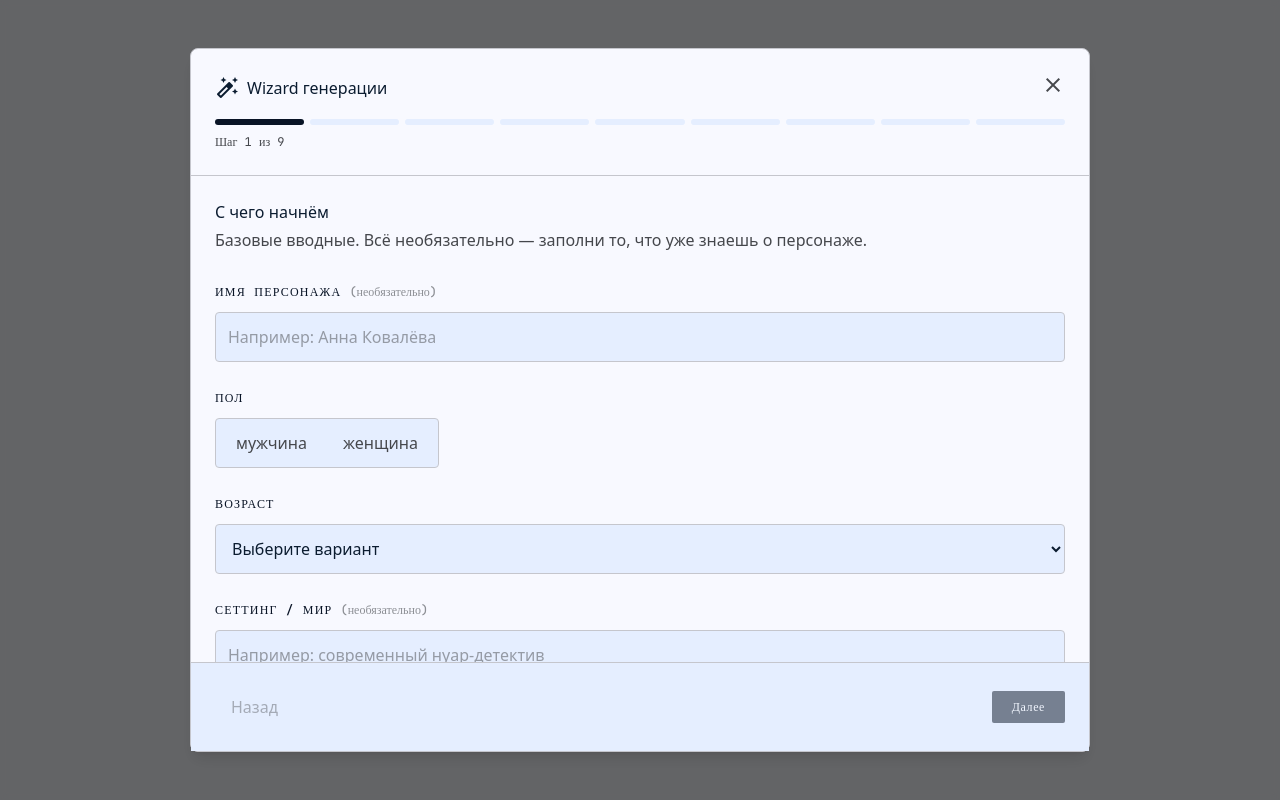
WizardModal › renders the intro step first and disables Next until required answers given
This screenshot has width=1280, height=800.
Check: the heading "С чего начнём" is shown, box [215, 201, 329, 223]
Check: the button "Далее" is disabled, box [992, 691, 1065, 723]
Click the button "мужчина". click: (272, 443)
box: [220, 423, 323, 463]
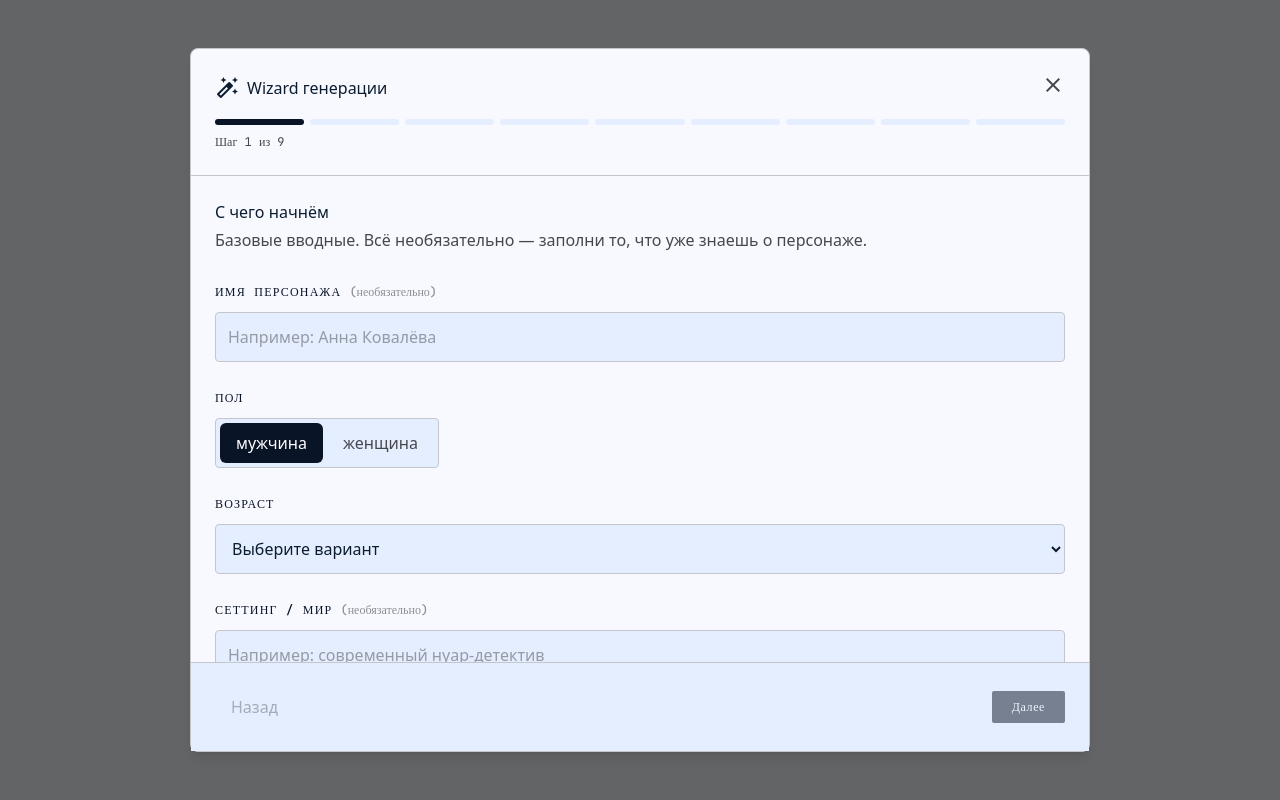
Select "18-25" in the dropdown. click: (640, 549)
box: [215, 524, 1065, 574]
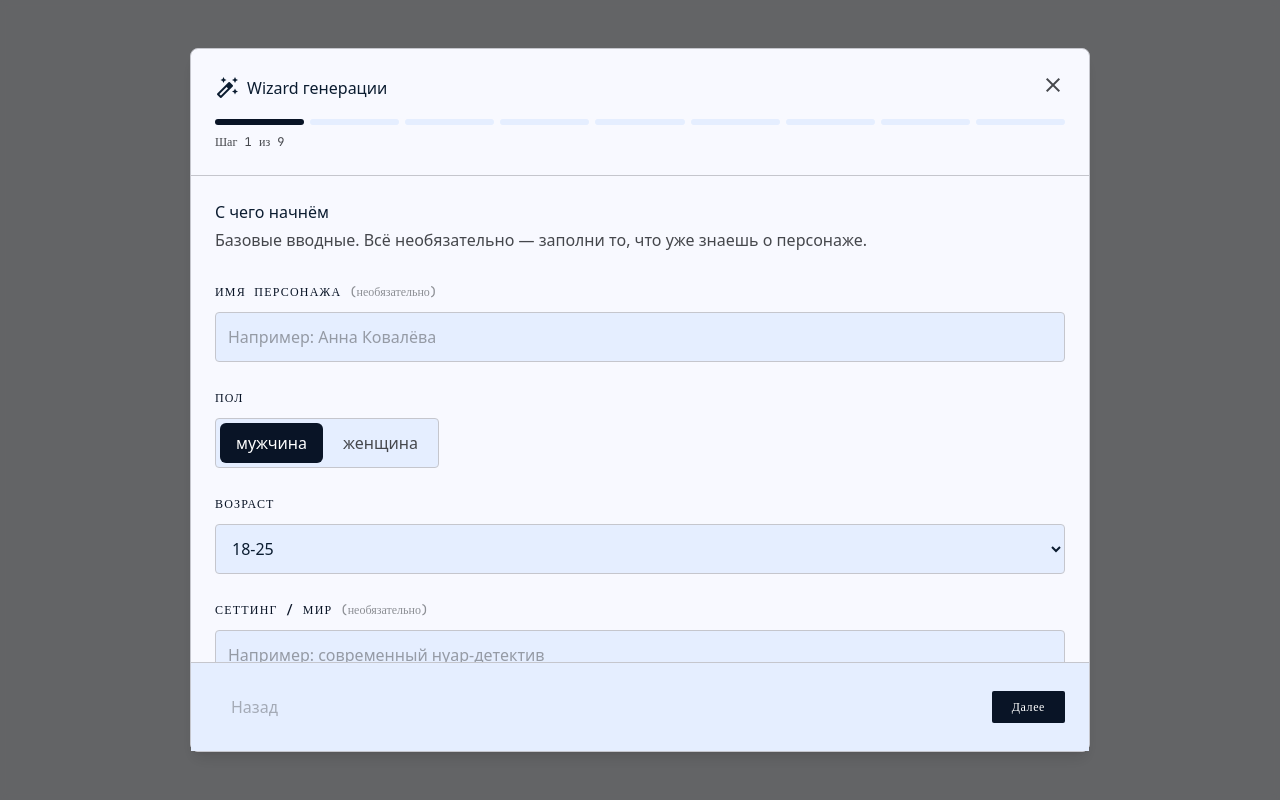
Check: the button "Далее" is enabled, box [992, 691, 1065, 723]
